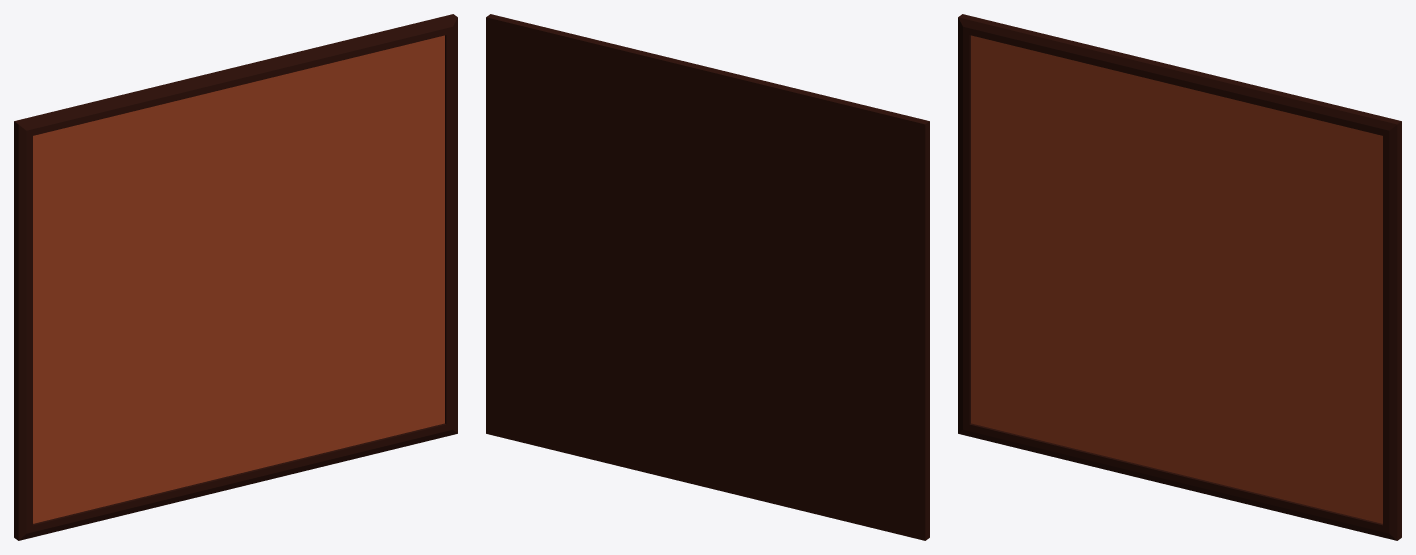
The model's file is Investigation_Board.fbx.
3 views of the same model, side by side, from view 1: azimuth 30°, elevation 25°; view 2: azimuth 150°, elevation 25°; view 3: azimuth 330°, elevation 25° (orthographic).
Parts seen in each view (by area): view 1: Box001; view 2: Box001; view 3: Box001.
Part boxes in pixels (box(x1,y1,x2,y2)): Box001: box(14, 14, 457, 540); Box001: box(486, 14, 929, 540); Box001: box(958, 14, 1401, 540).
Bounding box in the file's own units: 66.93 × 60.63 × 1.57.
